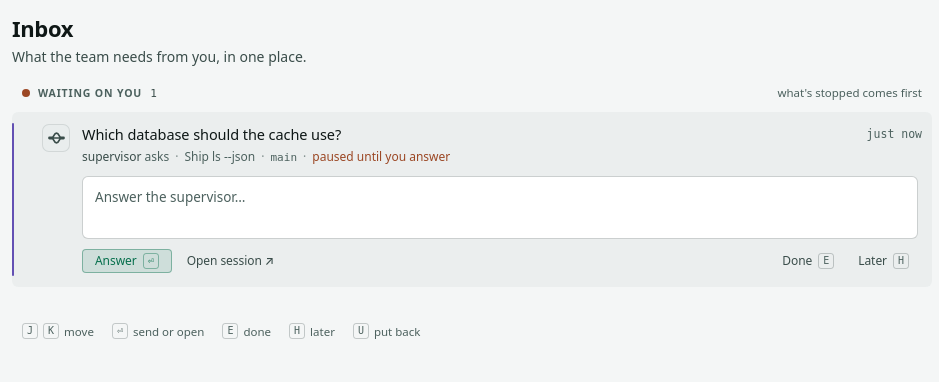
the Inbox queue › an answer the engine refuses keeps the row open with the text and one line why
The image size is (939, 382).
Type "Use Redis." into the text box with test id "answer-box". click: (500, 207)
box: [83, 177, 917, 238]
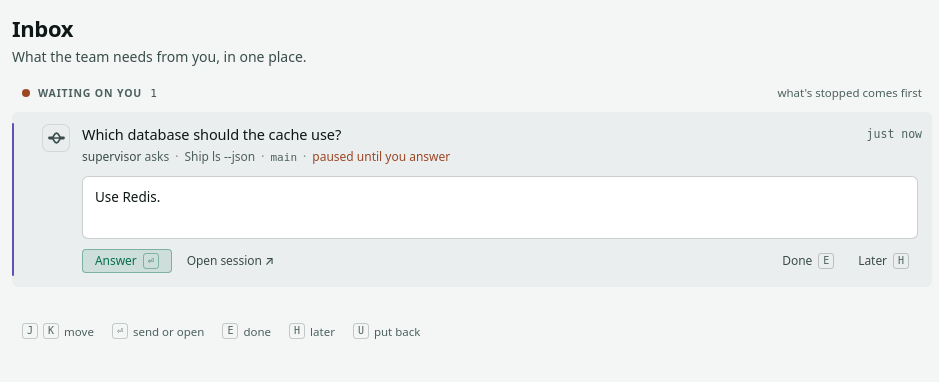
Click the button with test id "answer-send". click: (127, 261)
box: [82, 249, 172, 273]
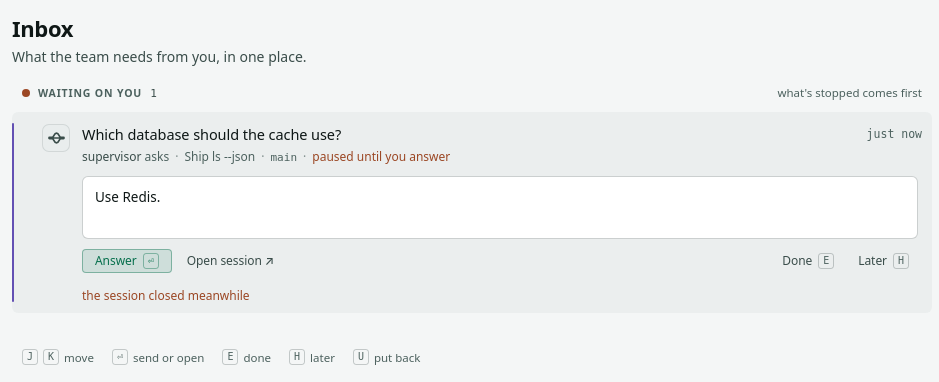
Check: the message reads "the session closed meanwhile", box [82, 287, 250, 304]
